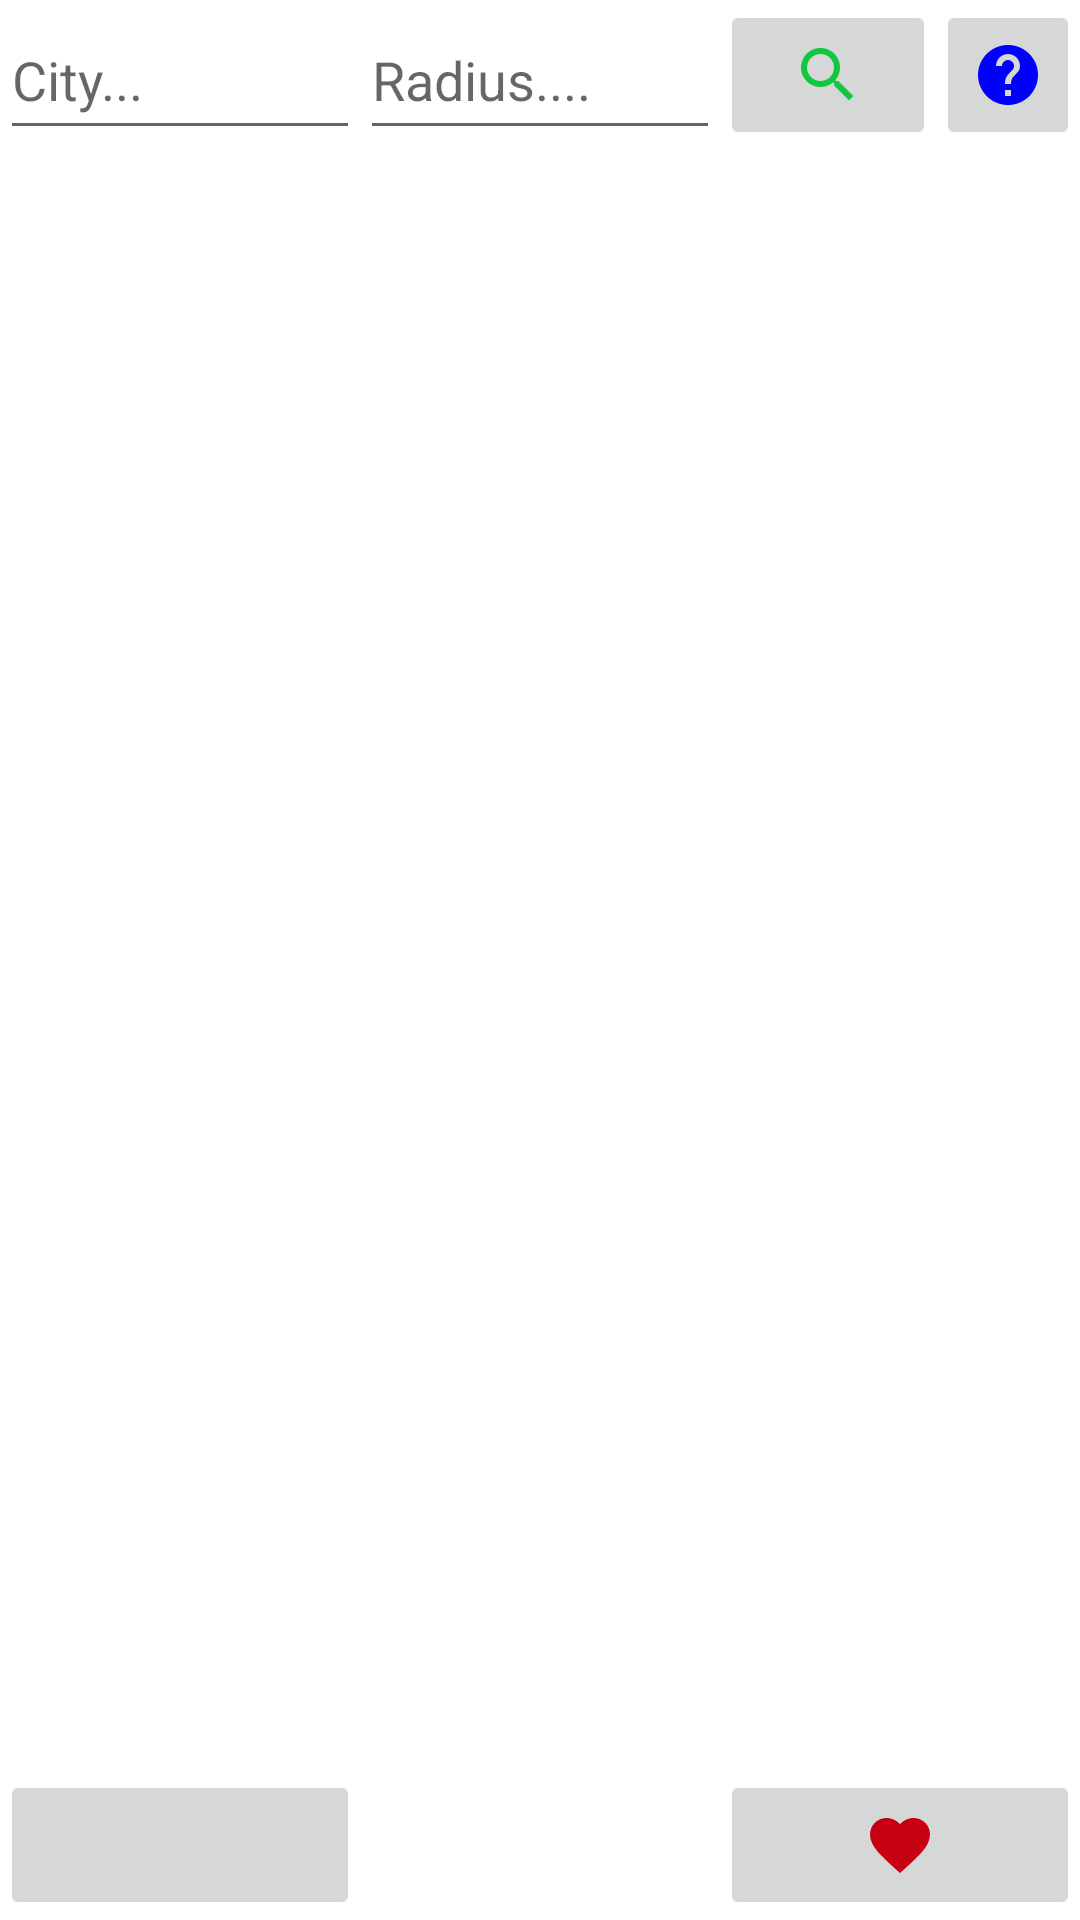

Named icons in this screenshot (1080*1920) and their centers, point (x, y):
Goes to FavoritesList Activity: point (900, 1845)
Help Button: point (1008, 75)
search: point (828, 75)
